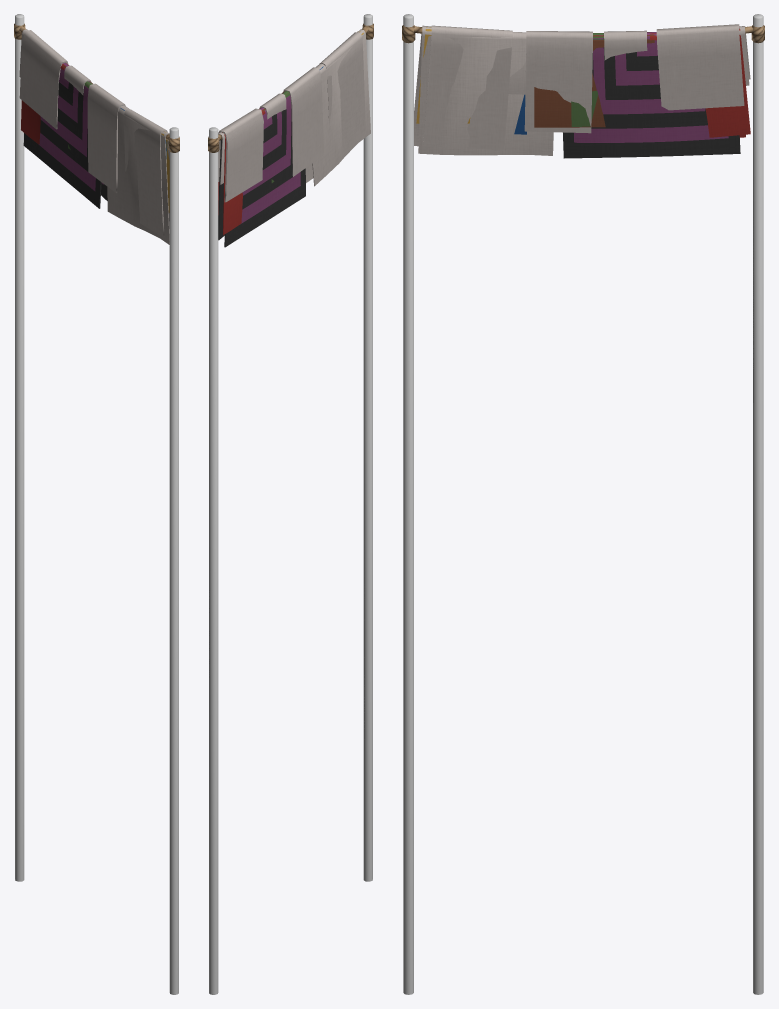
File: laundry.fbx
The picture shows the model from 3 angles, left to right: view 1: azimuth 30°, elevation 25°; view 2: azimuth 150°, elevation 25°; view 3: azimuth 270°, elevation 25°; orthographic projection. The views are drawn at different scales.
Parts seen in each view (by area): view 1: pole, pole.001, pole.002, cloth3, cloth, Plane.008, Plane.001, Plane.006, Plane.007; view 2: pole, pole.001, cloth3, cloth, pole.002, Plane.008, Plane.006, Plane.001, Plane.007; view 3: pole, cloth3, cloth, pole.002, pole.001, Plane.001, Plane.008, Plane.006, cloth2, Plane.007.
Boxes of the visible parts, <box> form: pole: <box>15,15,178,994</box>; pole.001: <box>15,14,178,994</box>; pole.002: <box>15,15,176,994</box>; cloth3: <box>23,63,166,208</box>; cloth: <box>21,63,169,244</box>; Plane.008: <box>124,108,169,237</box>; Plane.001: <box>19,30,68,129</box>; Plane.006: <box>87,83,125,192</box>; Plane.007: <box>64,65,91,95</box>; pole: <box>209,15,372,994</box>; pole.001: <box>209,14,372,994</box>; cloth3: <box>218,66,323,247</box>; cloth: <box>218,29,370,235</box>; pole.002: <box>209,15,370,994</box>; Plane.008: <box>319,32,365,153</box>; Plane.006: <box>283,67,324,176</box>; Plane.001: <box>218,108,263,202</box>; Plane.007: <box>259,93,286,119</box>; pole: <box>403,15,763,994</box>; cloth3: <box>514,32,740,158</box>; cloth: <box>414,25,750,155</box>; pole.002: <box>403,15,758,994</box>; pole.001: <box>403,14,763,994</box>; Plane.001: <box>656,24,744,110</box>; Plane.008: <box>423,25,512,150</box>; Plane.006: <box>524,31,592,133</box>; cloth2: <box>416,26,750,127</box>; Plane.007: <box>604,30,647,60</box>.
Size of the model in its own units: 415 by 1233 by 20.96.
